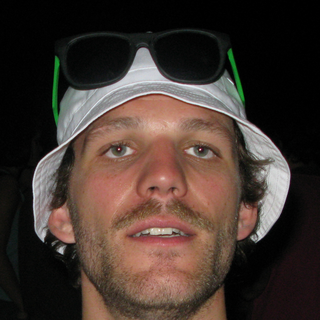eye: (177, 139, 221, 164), (98, 140, 142, 164)
